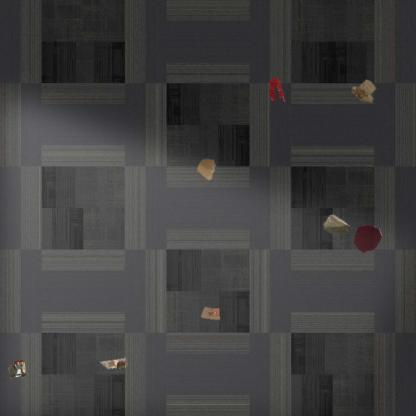dirty: (350, 78, 378, 105), (322, 213, 352, 236), (6, 357, 28, 381), (195, 158, 217, 182), (97, 356, 129, 371), (199, 306, 222, 322)
liquid: (353, 224, 383, 254), (268, 76, 286, 104)
